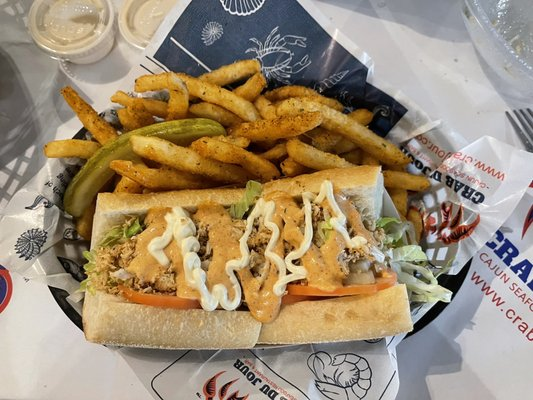sushi: (461, 0, 533, 155)
